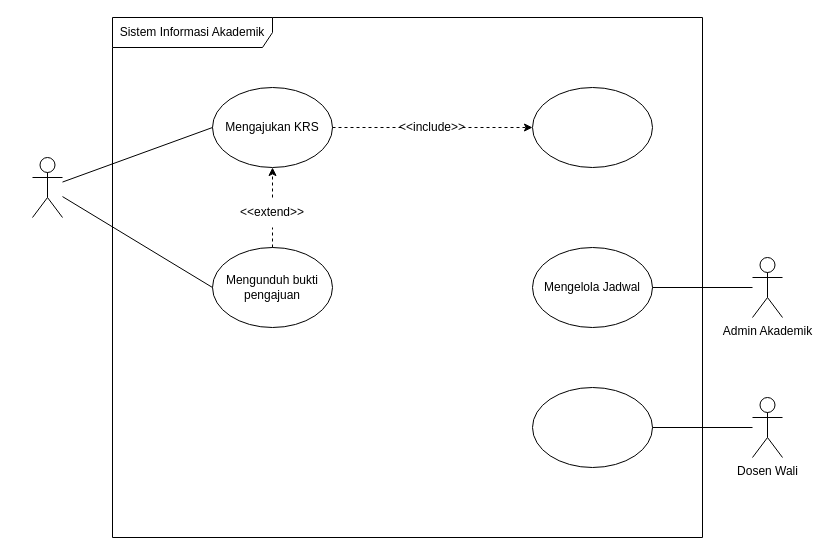
The diagram is 829 pixels wide and 555 high, and some of its shapes have lost their labels. Here are the shapes that lost their labels. From the top down, the centre of each, then its label:
At [592,127]: "Validasi KRS".
At [47,187]: "Mahasiswa".
At [592,427]: "Memproses Keputusan".
